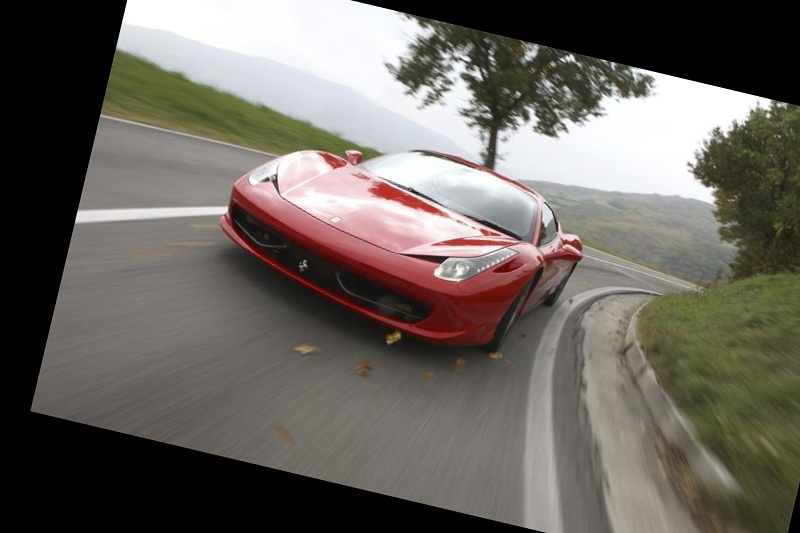car: (177, 96, 622, 405)
